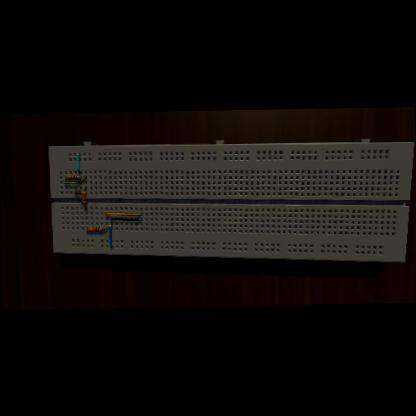breadboard: (49, 136, 416, 268)
resistor: (66, 176, 81, 180), (87, 227, 102, 231), (82, 191, 86, 205)
wire: (104, 212, 142, 216), (110, 218, 142, 221), (76, 154, 80, 173), (109, 224, 112, 247), (64, 182, 81, 184), (80, 176, 86, 178), (102, 228, 107, 230), (74, 188, 81, 189), (74, 192, 81, 193), (83, 188, 86, 190), (84, 206, 86, 209), (86, 228, 87, 230)
